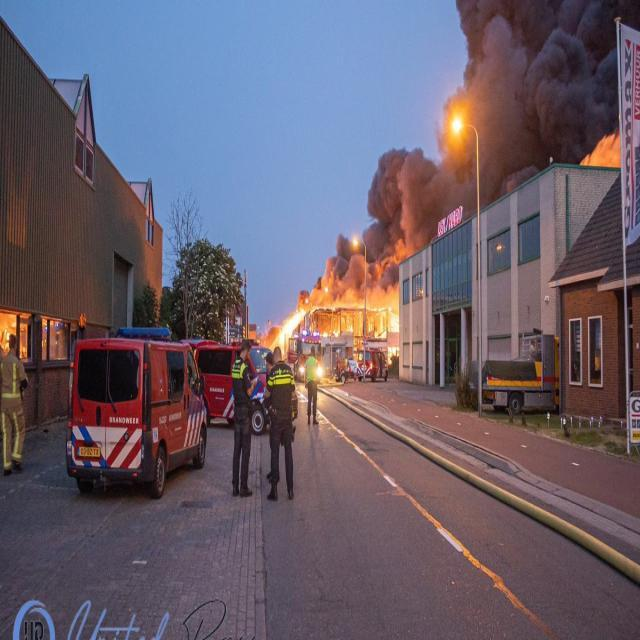Fire: (270, 308, 306, 356), (0, 310, 31, 360), (578, 134, 622, 168), (374, 313, 387, 339), (310, 305, 335, 314), (390, 317, 400, 332), (388, 346, 396, 364), (41, 316, 54, 326), (332, 330, 340, 338), (42, 338, 48, 348), (349, 325, 353, 333), (323, 332, 328, 338)
Smoke: (297, 0, 640, 320)
